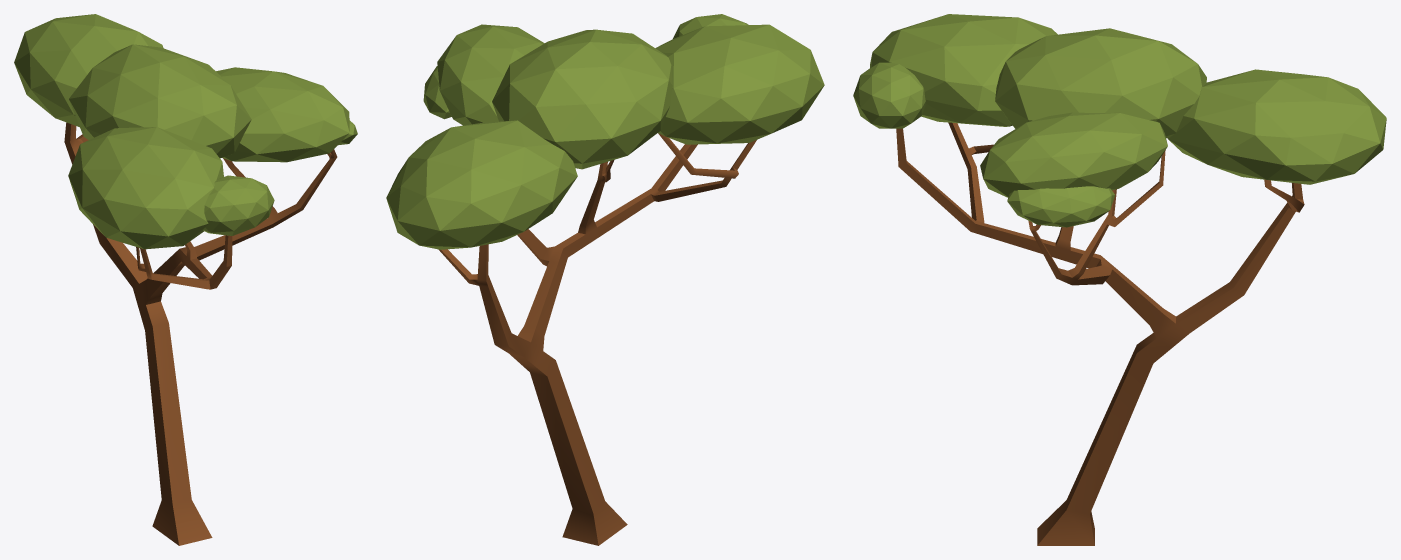
Rendered from low_poly_savana_tree(2).glb.
The picture shows the model from 3 angles, left to right: view 1: azimuth 30°, elevation 25°; view 2: azimuth 150°, elevation 25°; view 3: azimuth 270°, elevation 25°; orthographic projection. The views are drawn at different scales.
Parts seen in each view (by area): view 1: Cube_0; view 2: Cube_0; view 3: Cube_0.
Boxes of the visible parts, x1,y1,x2,y2 form: Cube_0: (14, 14, 357, 545); Cube_0: (386, 14, 824, 545); Cube_0: (853, 14, 1386, 545).
Size of the model in its own units: 9.92 by 14.46 by 14.07.
